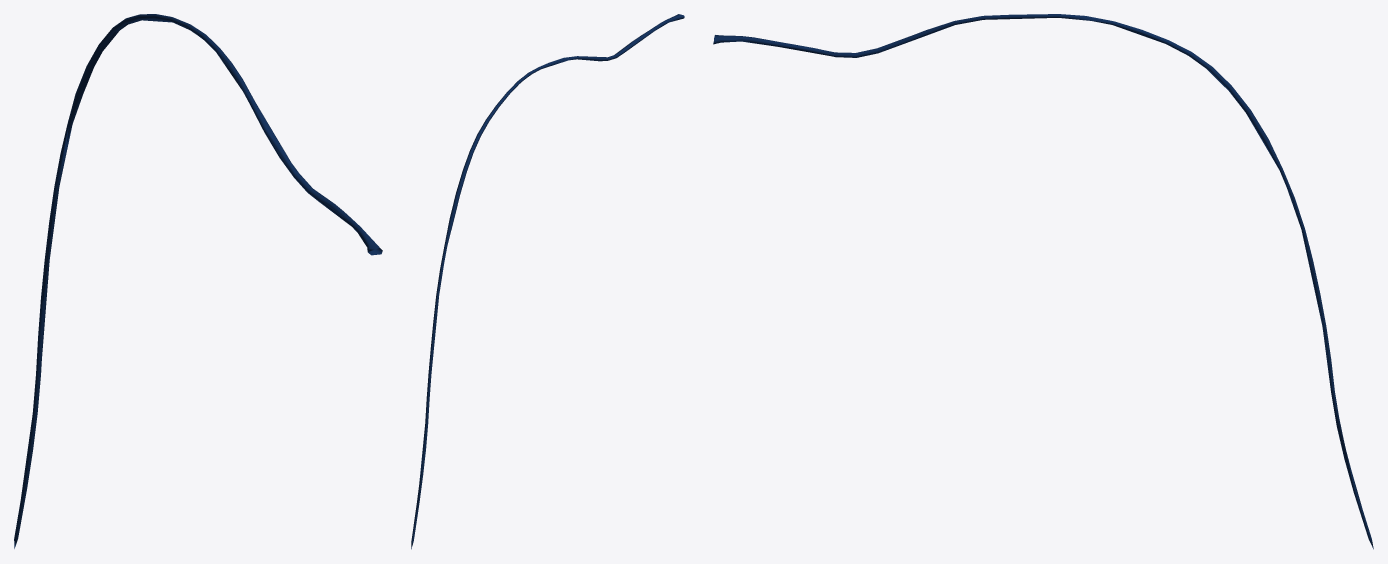
The model's file is vena caudalis mediana.fbx.
The picture shows the model from 3 angles, left to right: view 1: azimuth 30°, elevation 25°; view 2: azimuth 150°, elevation 25°; view 3: azimuth 270°, elevation 25°; orthographic projection. The views are drawn at different scales.
Parts seen in each view (by area): view 1: vena caudalis mediana, vena caudalis mediana low; view 2: vena caudalis mediana, vena caudalis mediana low; view 3: vena caudalis mediana, vena caudalis mediana low.
Boxes of the visible parts, x1,y1,x2,y2 form: vena caudalis mediana: (14, 14, 382, 548); vena caudalis mediana low: (21, 14, 381, 497); vena caudalis mediana: (411, 14, 684, 549); vena caudalis mediana low: (413, 14, 682, 536); vena caudalis mediana: (713, 14, 1373, 549); vena caudalis mediana low: (714, 14, 1361, 504).
Bounding box in the file's own units: 2.91 × 33.49 × 37.53.
